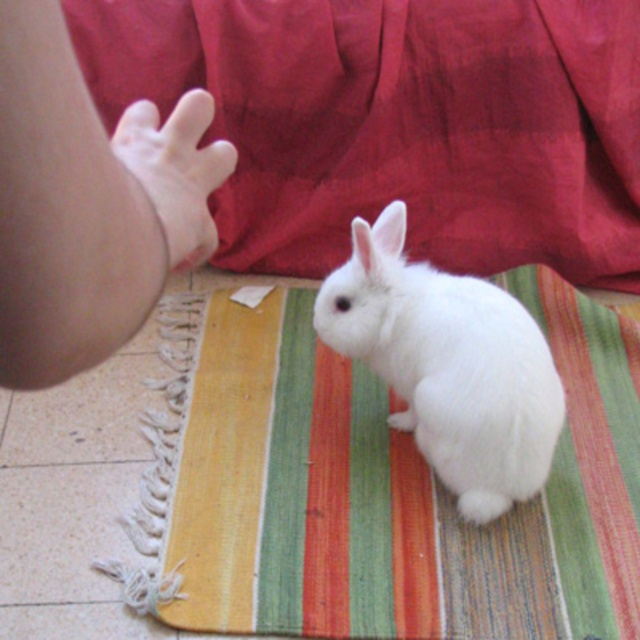Rabbit: (312, 200, 571, 530)
